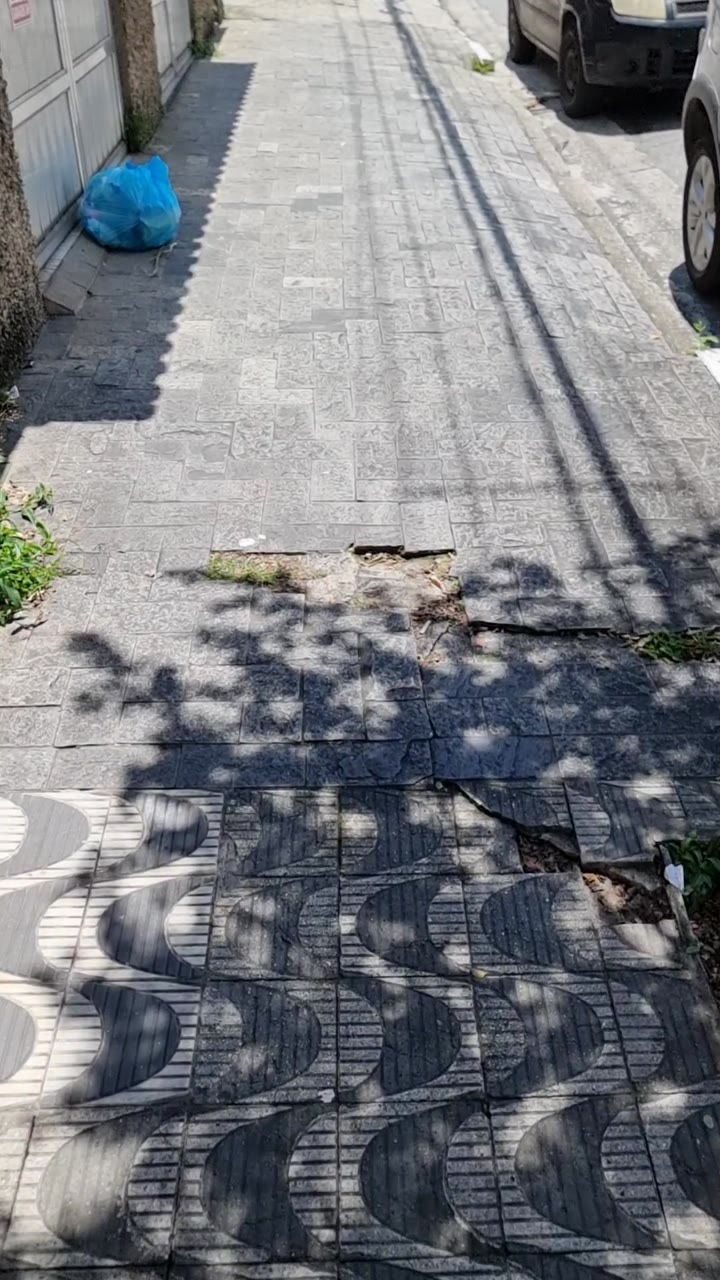desnivel: (202, 474, 720, 602), (432, 768, 720, 870)
obstaculo: (80, 156, 180, 251)
